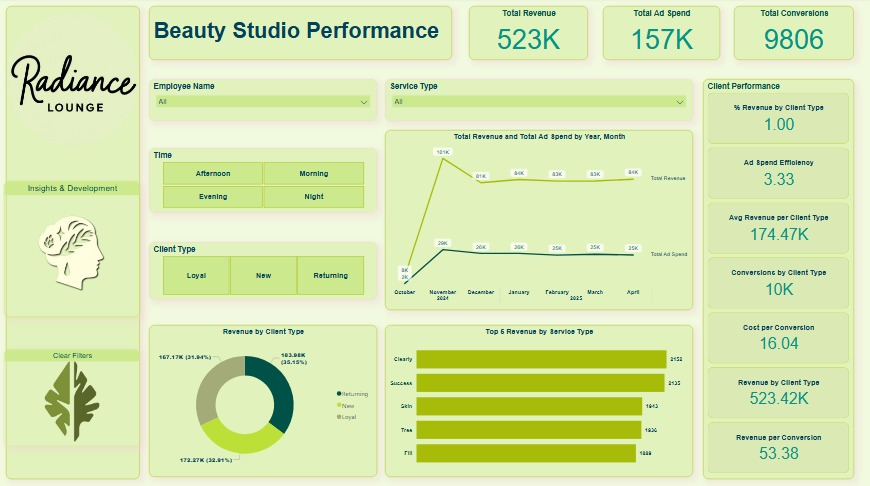

Layout of this report page (visuals, bound fields, positions):
{"tool":"powerbi","page":{"name":"Digital Channel Growth","canvas":[1920,1080],"ordinal":0},"visuals":[{"type":"card","title":"Total Revenue","fields":{"Values":["DAX Measures.Total Revenue"]},"box":[1035.9,19.8,262.3,119],"z":0},{"type":"card","title":"Total Ad Spend","fields":{"Values":["DAX Measures.Total Ad Spend"]},"box":[1331.3,19.8,257.9,119],"z":1000},{"type":"card","title":"Total Conversions","fields":{"Values":["DAX Measures.Total Conversions"]},"box":[1620,19.8,264.5,119],"z":2000},{"type":"lineClusteredColumnComboChart","title":"Total Revenue and Total Ad Spend by Year, Month ","fields":{"Series":["Radiance_Lounge.Service Type"],"Category":["Radiance_Lounge.Date.Variation.Date Hierarchy.Year","Radiance_Lounge.Date.Variation.Date Hierarchy.Month"],"Y2":["Sum(Radiance_Lounge.Revenue)","Sum(Radiance_Lounge.Ad Spend)"]},"box":[850.8,293.1,678.9,396.7],"z":3000},{"type":"barChart","title":"Top 5 Revenue by Service Type","fields":{"Category":["Radiance_Lounge.Service Type"],"Y":["DAX Measures.Total Revenue"]},"box":[850.8,722.9,678.9,335],"z":4000},{"type":"textbox","box":[15.4,19.8,295.3,1042.5],"z":5000},{"type":"textbox","box":[330.6,19.8,667.8,119],"z":6000},{"type":"donutChart","title":"Revenue by Client Type ","fields":{"Category":["Radiance_Lounge.Client Type"],"Y":["DAX Measures.Revenue by Client Type"]},"box":[330.6,722.9,502.5,335],"z":7000},{"type":"slicer","title":"Time","fields":{"Values":["Radiance_Lounge.Time"]},"box":[330.6,332.8,502.5,143.3],"z":8000},{"type":"slicer","title":"Client Type","fields":{"Values":["Radiance_Lounge.Client Type"]},"box":[330.6,540,502.5,127.8],"z":9000},{"type":"cardVisual","title":"Client Performance ","fields":{"Data":["DAX Measures.% Revenue by Client Type","DAX Measures.Ad Spend Efficiency","DAX Measures.Avg Revenue per Client Type","DAX Measures.Conversions by Client Type","DAX Measures.Cost per Conversion","DAX Measures.Revenue by Client Type","DAX Measures.Revenue per Conversion"]},"box":[1551.7,180.7,332.8,881.6],"z":10000},{"type":"slicer","title":"Service Type","fields":{"Values":["Radiance_Lounge.Service Type"]},"box":[850.8,180.7,678.9,92.6],"z":11000},{"type":"slicer","title":"Employee Name","fields":{"Values":["Radiance_Lounge.Employee"]},"box":[330.6,180.7,502.5,92.6],"z":12000},{"type":"image","title":"Clear Filters","box":[11,775.8,299.8,213.8],"z":13000},{"type":"image","box":[11,30.9,299.8,299.8],"z":14000},{"type":"image","title":"Insights & Development","box":[11,405.6,299.8,299.8],"z":15000}]}

Visuals, with their boxes in screenshot pixels (x1, y1, x2, y2), scaled from the page's 1920x1080 canvas onto the 870x486 screenshot:
"Total Revenue" card: detection(469, 9, 588, 62)
"Total Ad Spend" card: detection(603, 9, 720, 62)
"Total Conversions" card: detection(734, 9, 854, 62)
"Total Revenue and Total Ad Spend by Year, Month " lineClusteredColumnComboChart: detection(386, 132, 693, 310)
"Top 5 Revenue by Service Type" barChart: detection(386, 325, 693, 476)
textbox: detection(7, 9, 141, 478)
textbox: detection(150, 9, 452, 62)
"Revenue by Client Type " donutChart: detection(150, 325, 377, 476)
"Time" slicer: detection(150, 150, 377, 214)
"Client Type" slicer: detection(150, 243, 377, 301)
"Client Performance " cardVisual: detection(703, 81, 854, 478)
"Service Type" slicer: detection(386, 81, 693, 123)
"Employee Name" slicer: detection(150, 81, 377, 123)
"Clear Filters" image: detection(5, 349, 141, 445)
image: detection(5, 14, 141, 149)
"Insights & Development" image: detection(5, 183, 141, 317)
